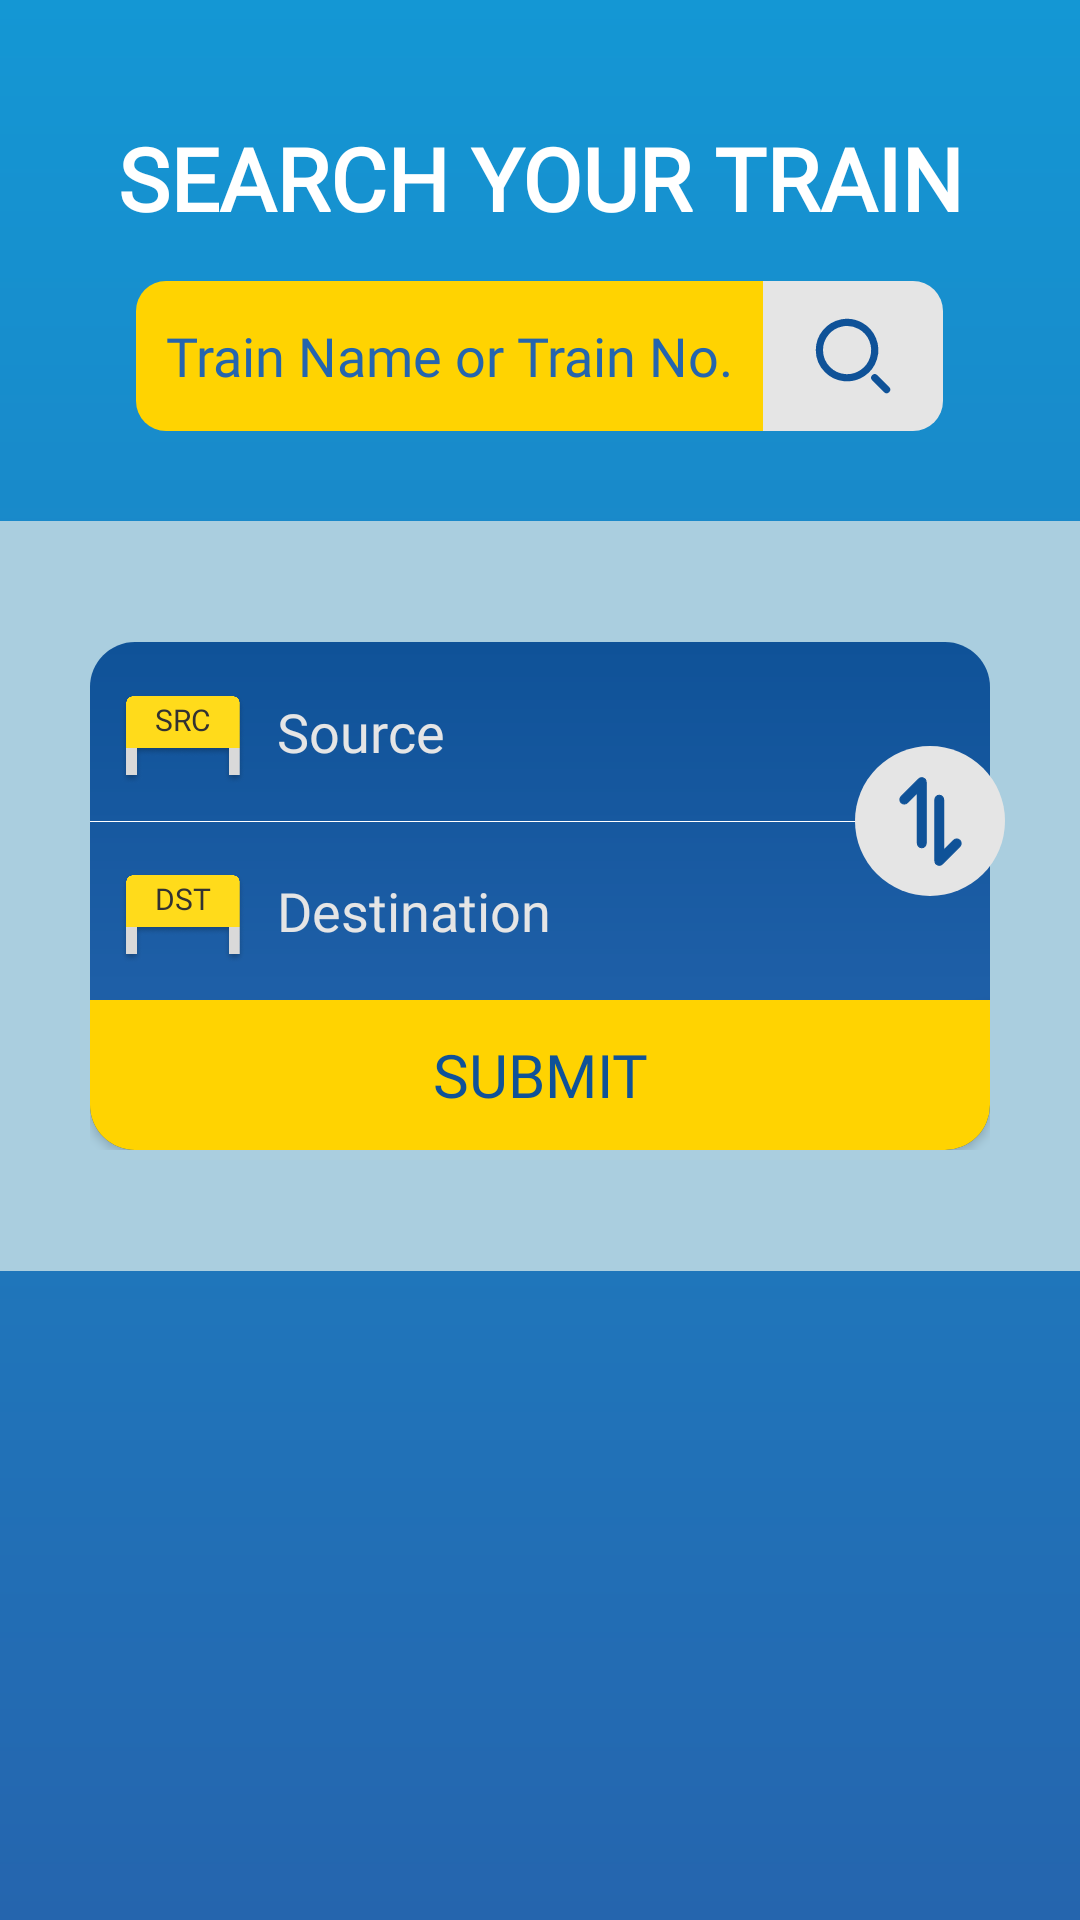

Icon bounding boxes for this 1080w x 1920h phone screenshot, format (x1, y1, x2, y2):
exchange: (855, 746, 1005, 896)
